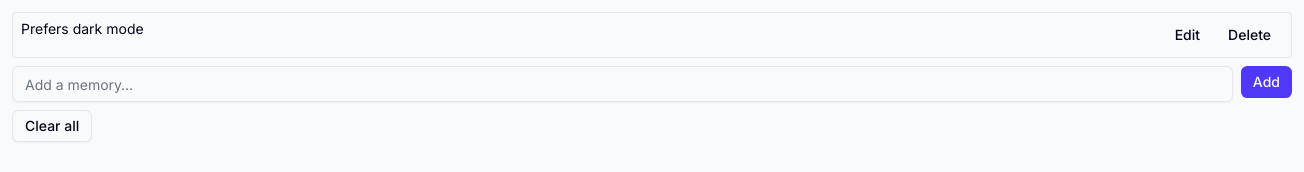
it: MemorySettings › deletes a memory
The image size is (1304, 172).
Expected: the text "Prefers dark mode" is shown, [21,19,144,39]
Click the button "Delete". click: (1250, 35)
box: [1216,19,1283,51]
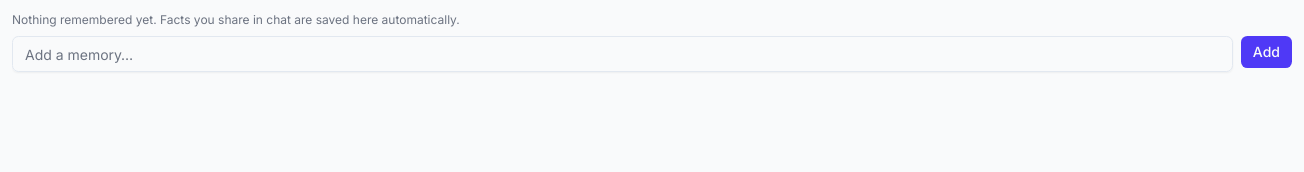
Now the text "Prefers dark mode" is gone
